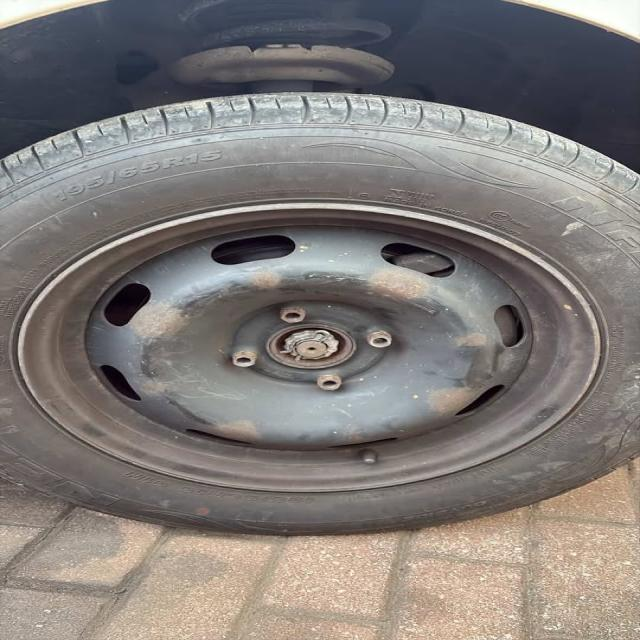jante: (11, 202, 607, 492)
parafuso: (356, 326, 406, 354), (272, 298, 314, 330), (219, 346, 261, 374), (312, 370, 351, 395)
roda: (0, 89, 640, 536)
